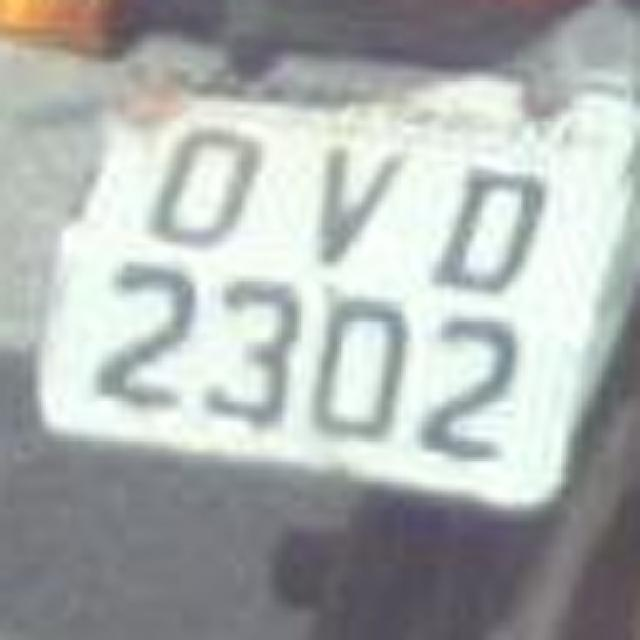2: (391, 292, 544, 480), (76, 248, 212, 432)
3: (172, 256, 328, 444)
O: (284, 272, 436, 456), (120, 104, 288, 264), (412, 140, 572, 305)
V: (268, 128, 424, 280)
